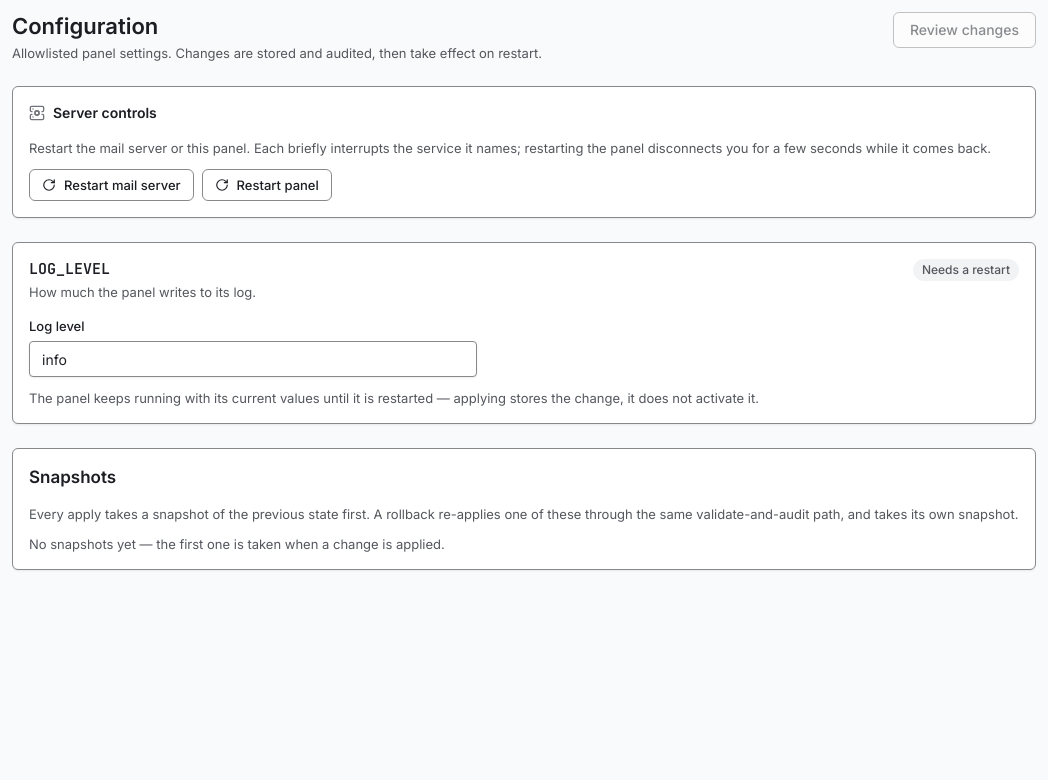
Scenario: ConfigPage — nothing is sent while typing (FEATURE_MATRIX.md §28-29) › keeps Review disabled until a value actually differs
The width and height of the screenshot is (1048, 780).
Check: the button "Review changes" is disabled, box [893,12,1036,48]
// Typed and then reverted to the current value is not a change.
Replace the text in the field labelled "Log level" with "debug" at (253, 359), box [29,341,477,377]
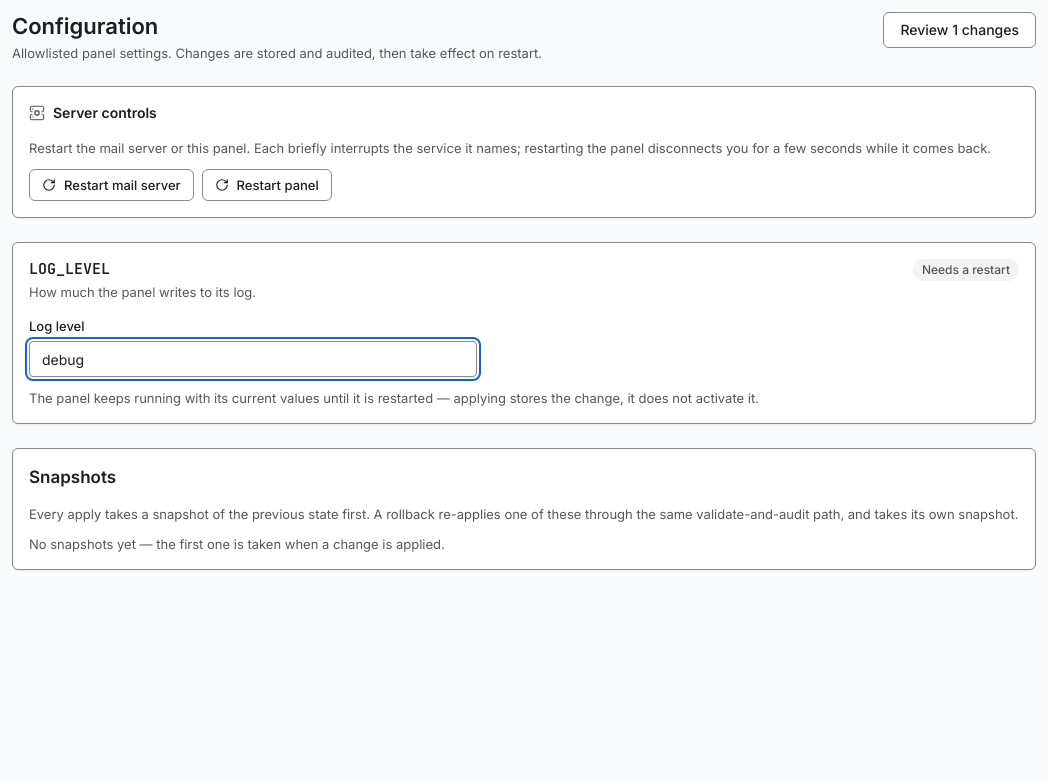
Check: the button "Review 1 changes" is enabled, box [883,12,1036,48]
Replace the text in the field labelled "Log level" with "info" at (253, 359), box [29,341,477,377]
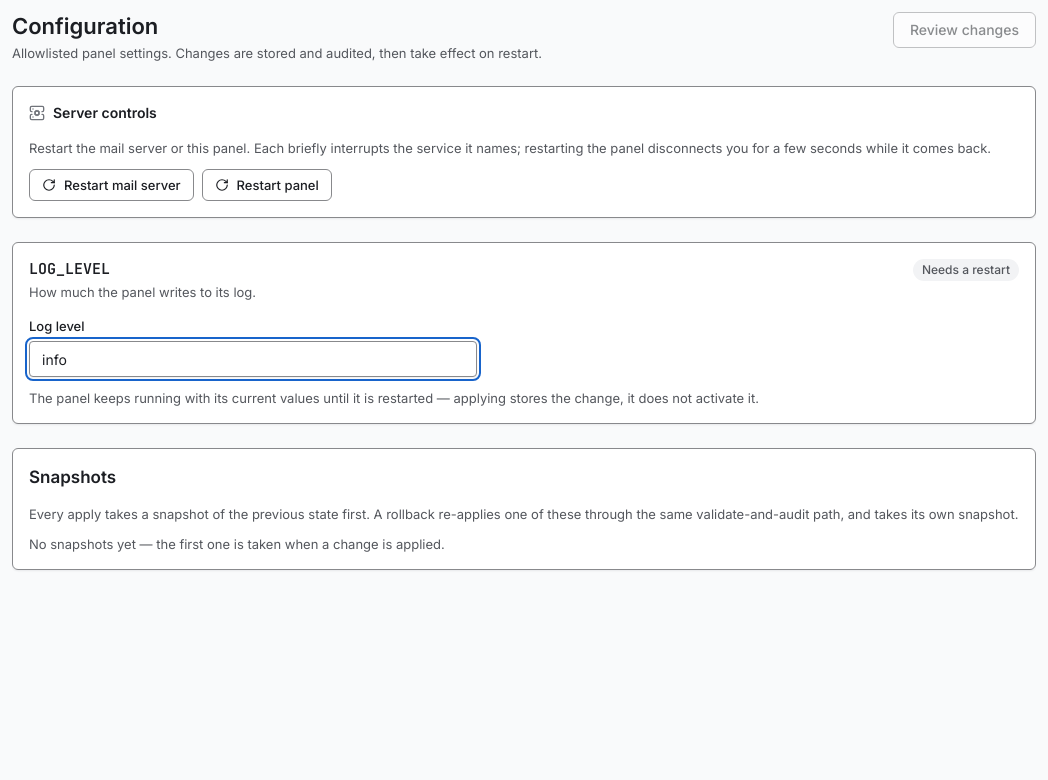
Check: the button "Review changes" is disabled, box [893,12,1036,48]
